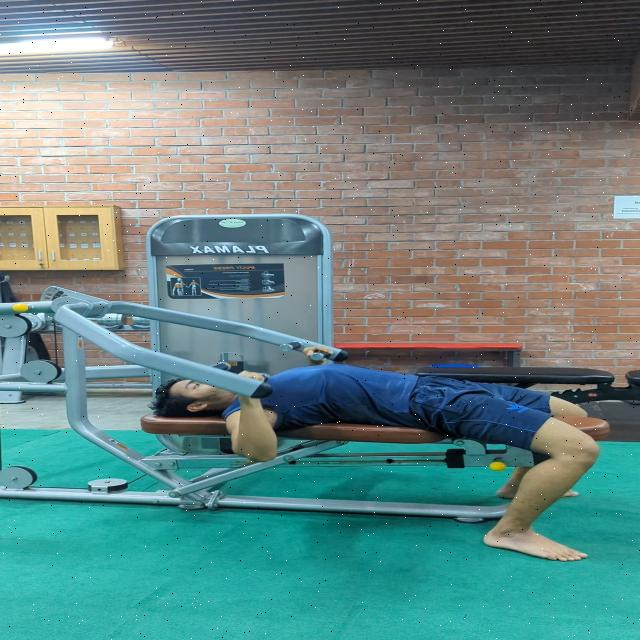Normal_BrenchPress: (57, 343, 630, 558)
